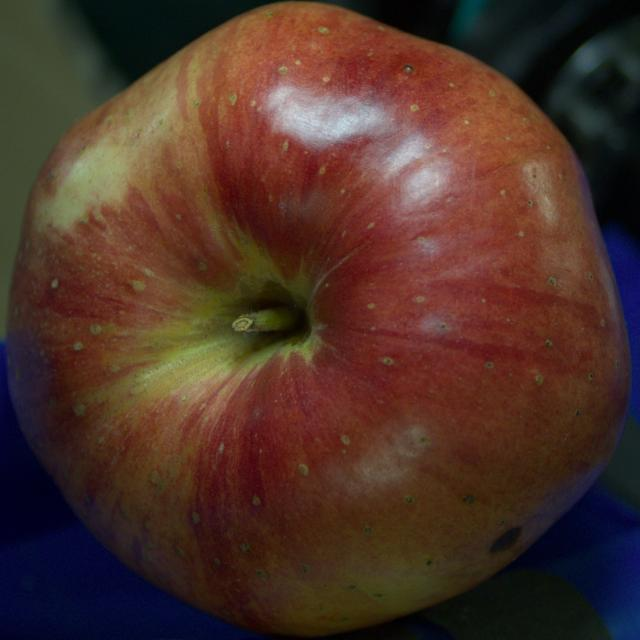apple: (6, 2, 630, 636)
pest: (490, 527, 521, 553), (404, 65, 413, 71)
